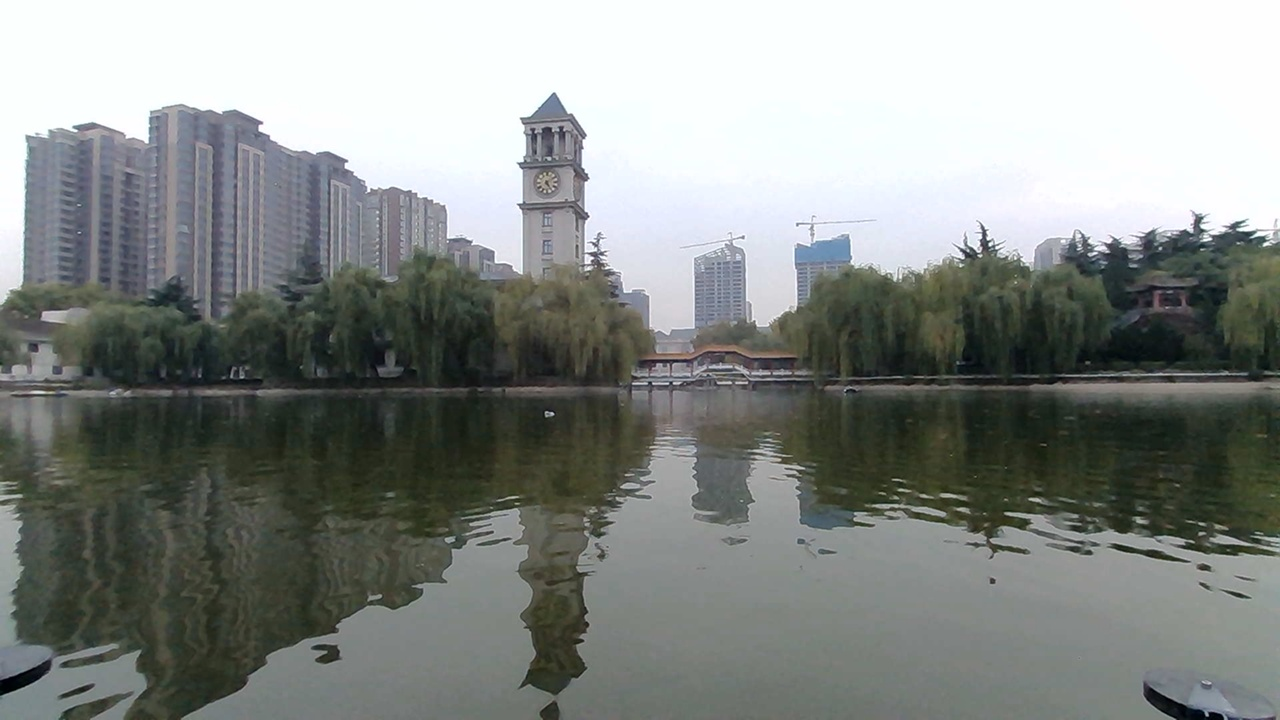bottle: (529, 405, 560, 426)
